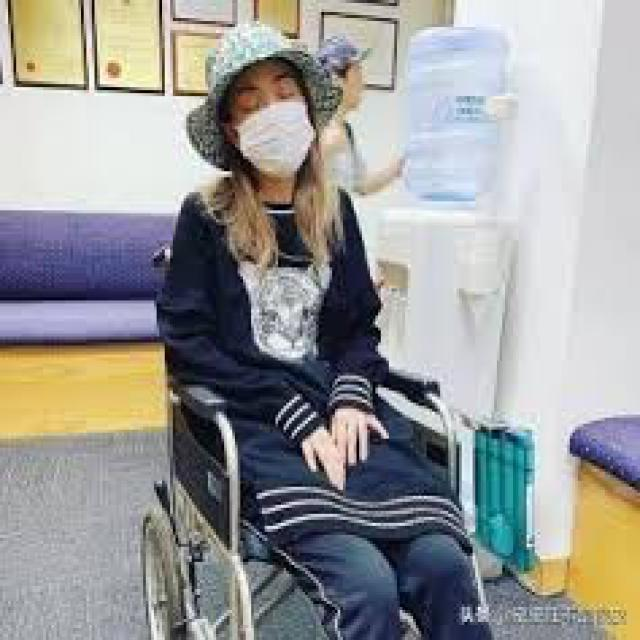wheelchairs: (141, 198, 514, 637)
